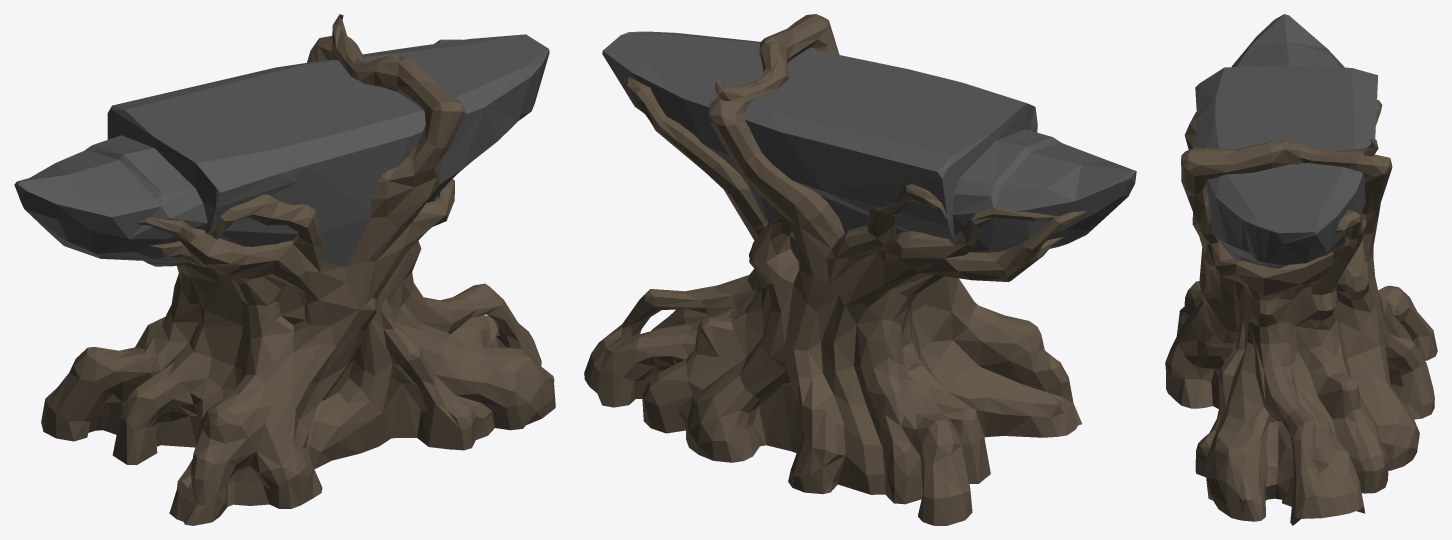
File: Stylized_Anvil_001.fbx
The picture shows the model from 3 angles, left to right: view 1: azimuth 30°, elevation 25°; view 2: azimuth 150°, elevation 25°; view 3: azimuth 270°, elevation 25°; orthographic projection. The views are drawn at different scales.
Visible parts, largest first — view 1: Stylized_Anvil_001; view 2: Stylized_Anvil_001; view 3: Stylized_Anvil_001.
Part boxes in pixels (x1=…): Stylized_Anvil_001: x1=14, y1=14, x2=555, y2=525; Stylized_Anvil_001: x1=584, y1=14, x2=1136, y2=525; Stylized_Anvil_001: x1=1165, y1=14, x2=1437, y2=525.
Size of the model in its own units: 145 by 94.81 by 72.53.
